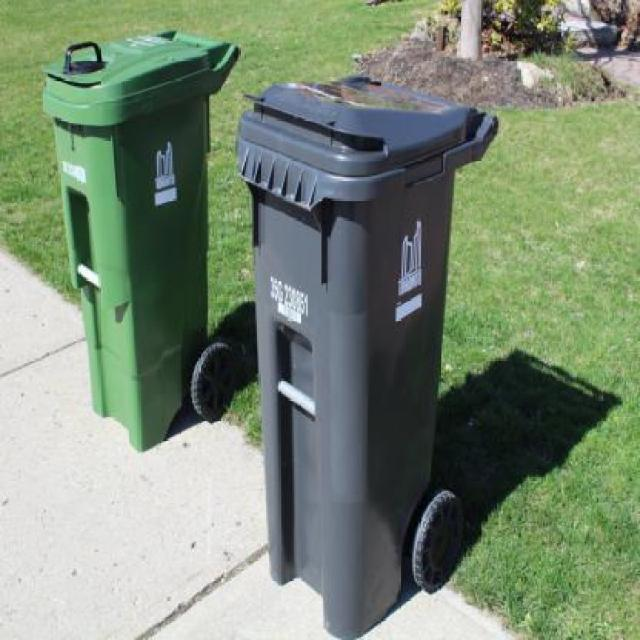garbage container: (236, 65, 513, 640), (34, 25, 251, 466)
